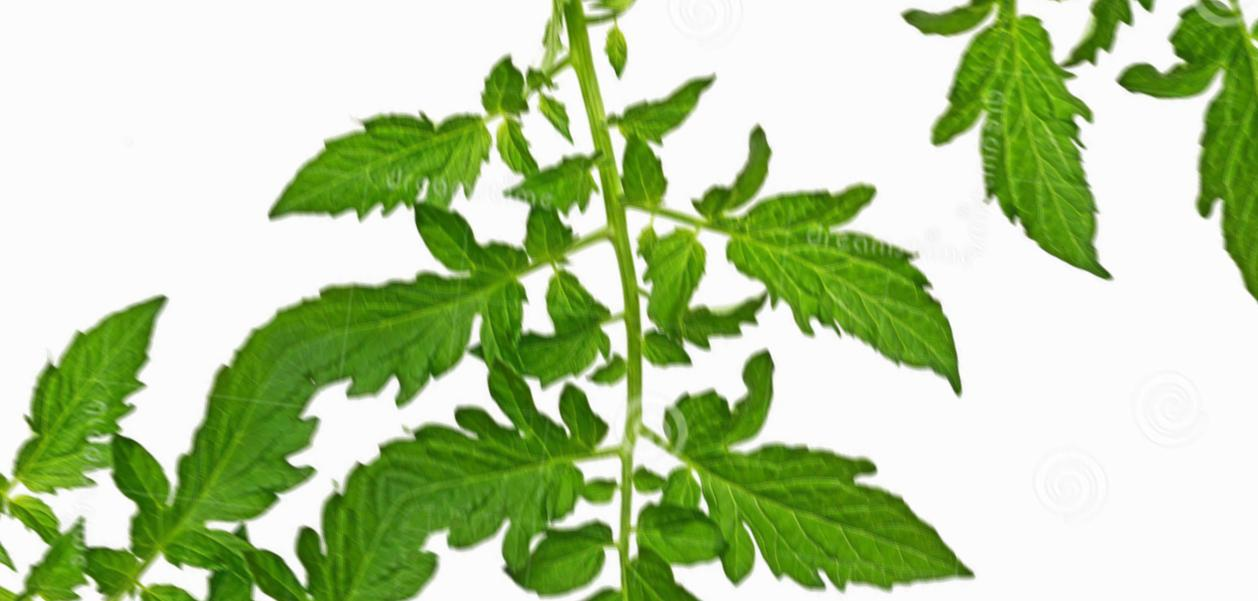Tomato leaf: (664, 100, 1025, 499), (250, 138, 593, 472), (644, 341, 996, 601), (249, 22, 550, 314), (365, 311, 662, 601), (468, 0, 756, 66), (535, 589, 863, 601)
